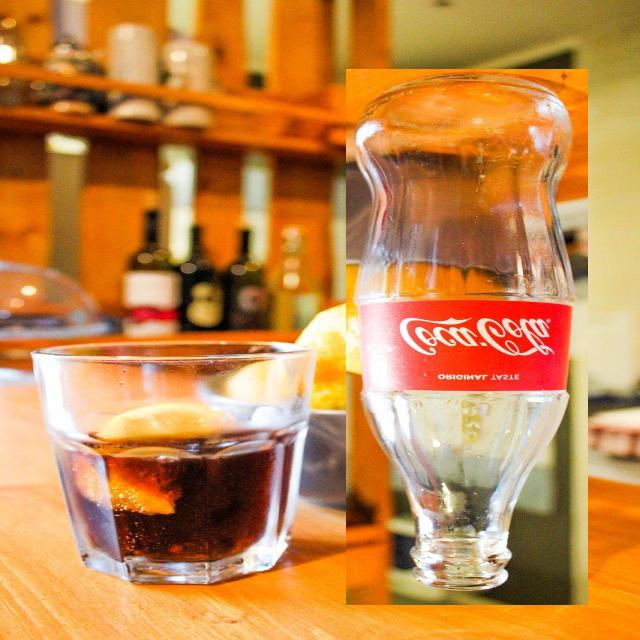coca-cola: (346, 69, 588, 605)
